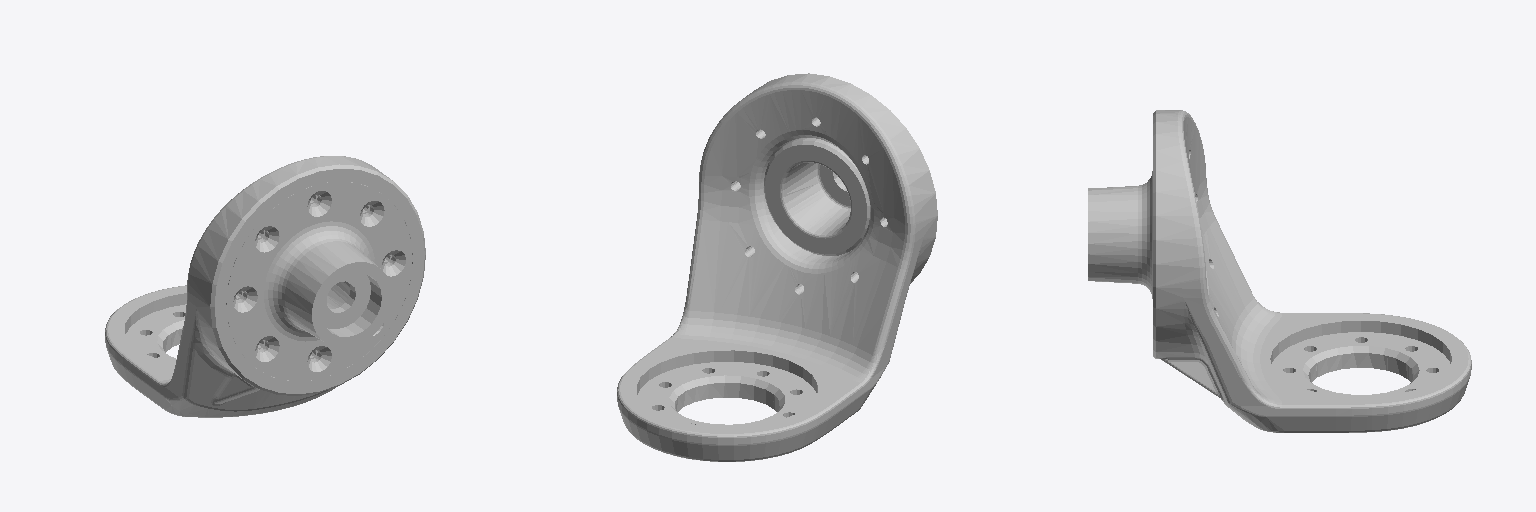
Rendered from shoulderL_left.obj.
3 views of the same model, side by side, from view 1: azimuth 30°, elevation 25°; view 2: azimuth 150°, elevation 25°; view 3: azimuth 270°, elevation 25° (orthographic).
Visible parts, largest first — view 1: shoulder_pitch_left; view 2: shoulder_pitch_left; view 3: shoulder_pitch_left.
Boxes of the visible parts, x1=… form: shoulder_pitch_left: x1=105, y1=156, x2=425, y2=417; shoulder_pitch_left: x1=617, y1=73, x2=937, y2=461; shoulder_pitch_left: x1=1088, y1=110, x2=1471, y2=432.
Size of the model in its own units: 0.08 by 0.095 by 0.1232.